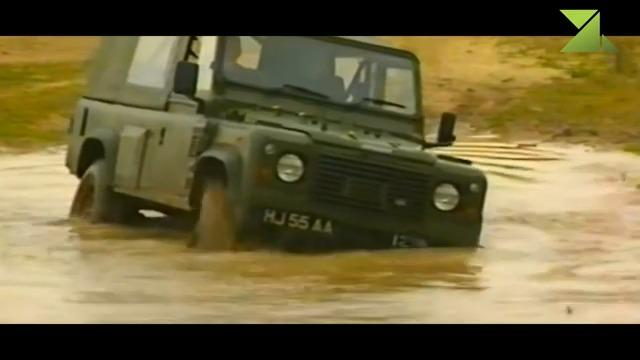MIL_HMMWV: (66, 34, 488, 253)
